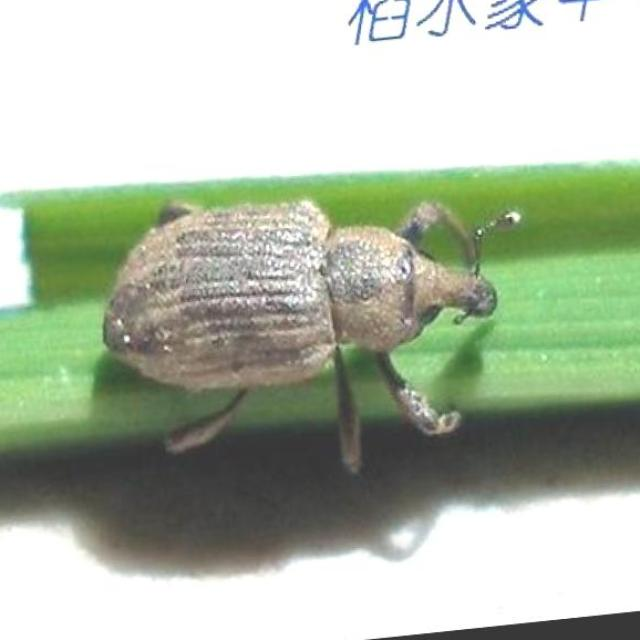ricebug: (104, 199, 519, 471)
